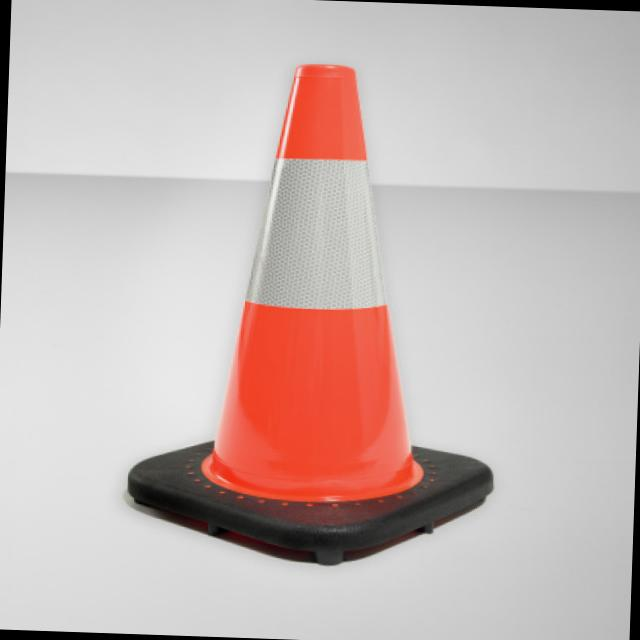cone: (118, 35, 518, 576)
